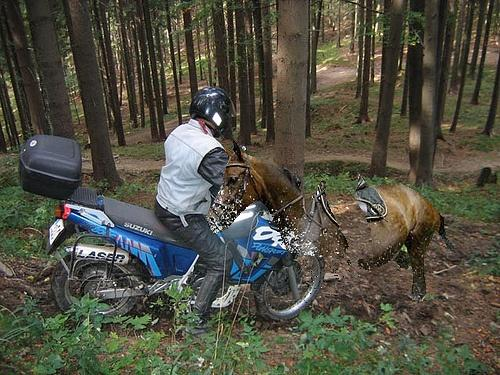tampered: (207, 141, 456, 335)
